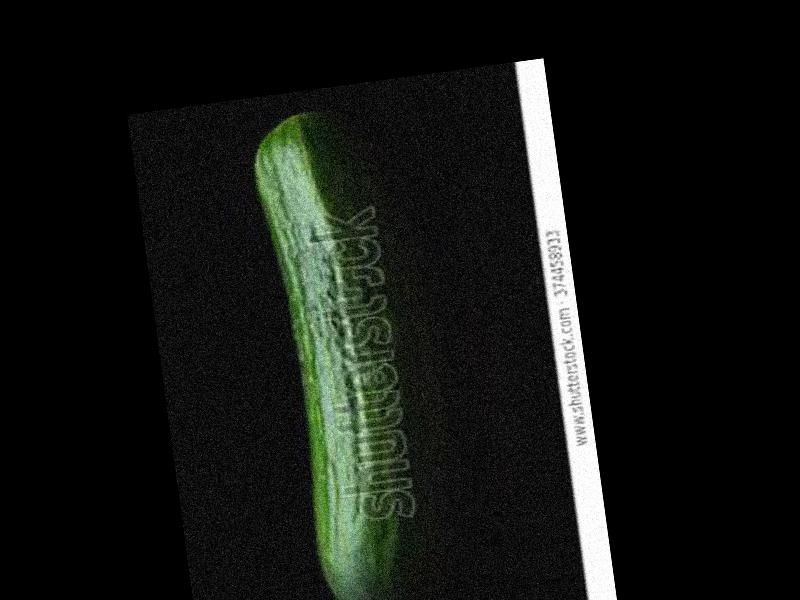Cucumber: (250, 101, 435, 600)
